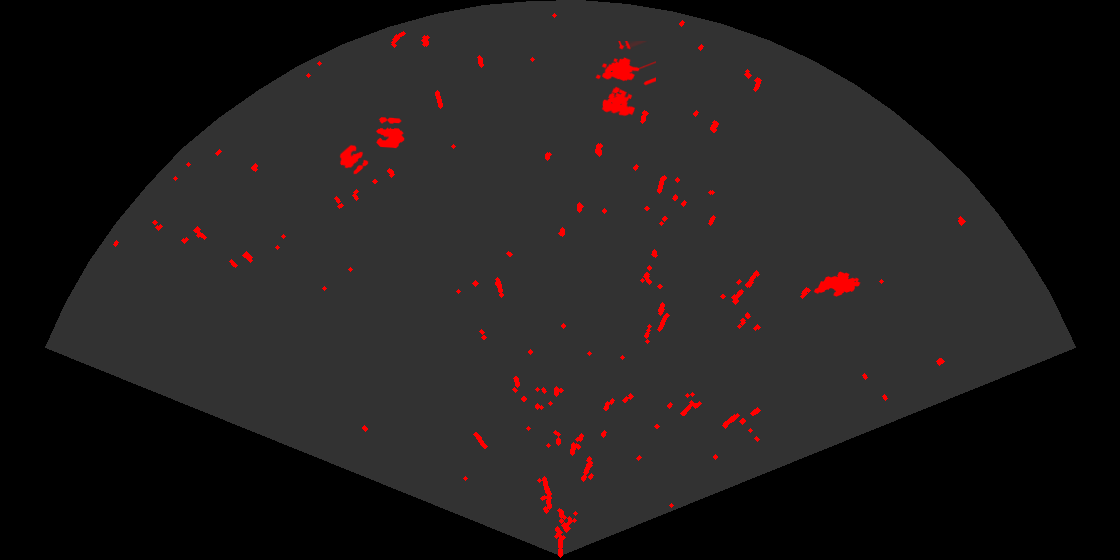AUV: (812, 270, 862, 298)
ball: (374, 116, 406, 150), (338, 143, 370, 176)
cage: (594, 41, 656, 118)
